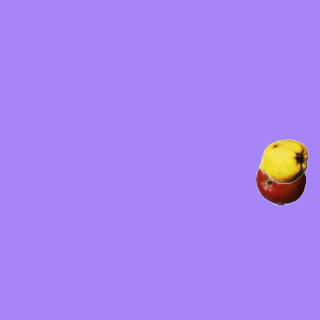Apple Braeburn: (255, 155, 305, 205)
Quince: (258, 136, 308, 186)
